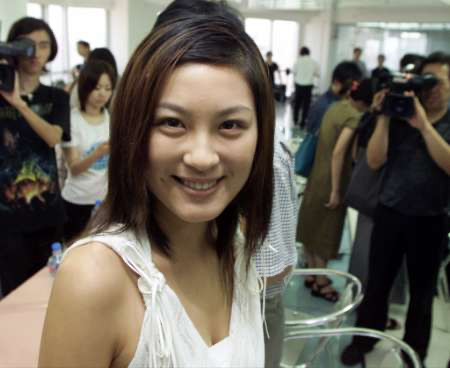Face: (144, 66, 269, 227), (15, 30, 58, 73), (84, 73, 116, 111)
